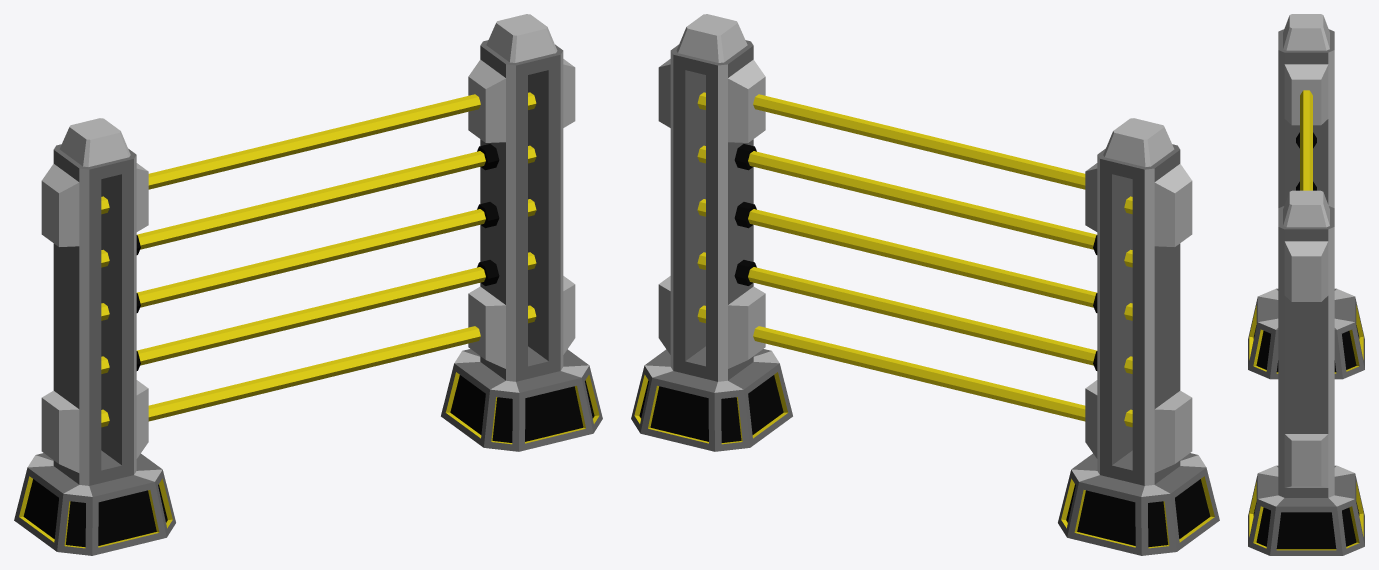
The model's file is Wall.fbx.
3 renders of one model, left to right at view 1: azimuth 30°, elevation 25°; view 2: azimuth 150°, elevation 25°; view 3: azimuth 270°, elevation 25°, orthographic. The views are drawn at different scales.
Parts seen in each view (by area): view 1: Plane.001; view 2: Plane.001; view 3: Plane.001.
Part boxes in pixels (<box>): Plane.001: <box>14,14,602,555</box>; Plane.001: <box>631,14,1219,555</box>; Plane.001: <box>1248,14,1364,555</box>.
Size of the model in its own units: 199 by 137 by 43.43.
